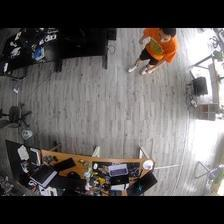fall: (127, 27, 180, 76)
